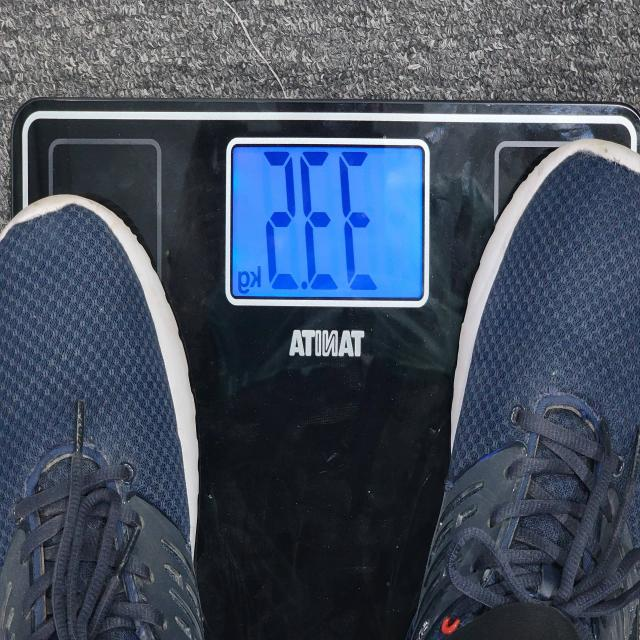ws: (6, 100, 599, 455)
